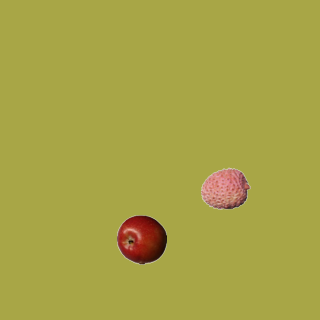Apple Braeburn: (116, 214, 166, 264)
Lychee: (200, 163, 250, 213)
